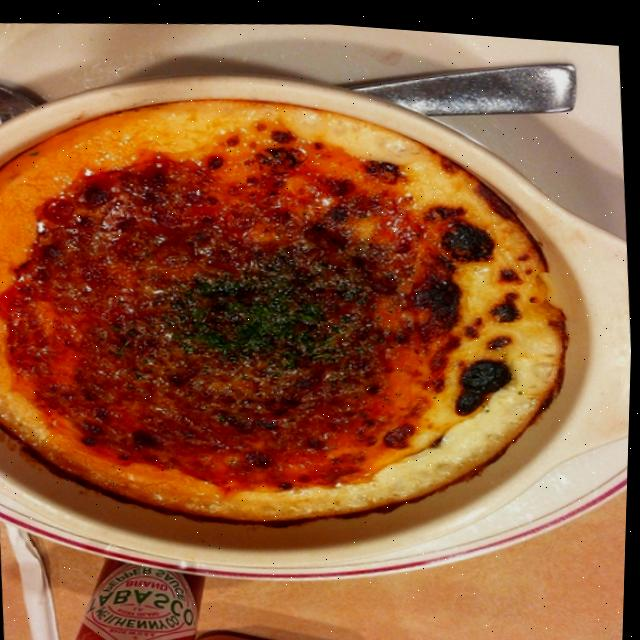米饭主食: (0, 50, 591, 578)
